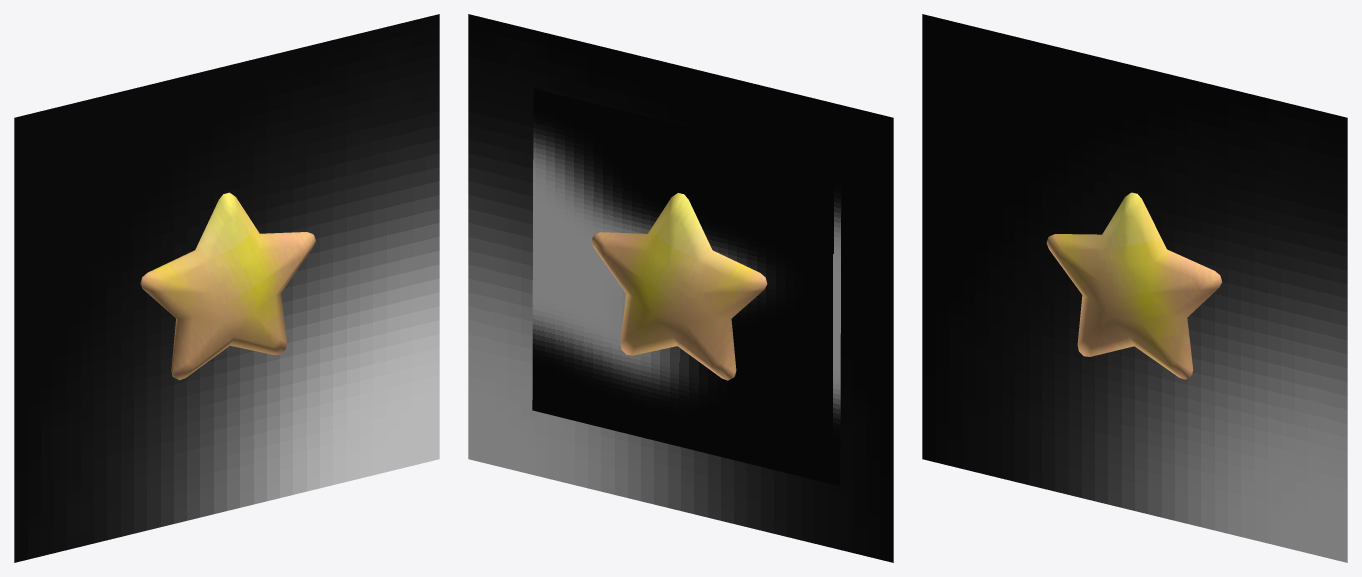
The model's file is Star.obj.
3 renders of one model, left to right at view 1: azimuth 30°, elevation 25°; view 2: azimuth 150°, elevation 25°; view 3: azimuth 330°, elevation 25°, orthographic.
Visible parts, largest first — view 1: polygon1, polygon0; view 2: polygon1, polygon2, polygon0; view 3: polygon1, polygon0.
Part boxes in pixels (<box>): polygon1: <box>14,14,439,562</box>; polygon0: <box>140,192,315,380</box>; polygon1: <box>468,14,893,562</box>; polygon2: <box>532,88,841,486</box>; polygon0: <box>591,193,767,380</box>; polygon1: <box>922,14,1347,562</box>; polygon0: <box>1046,192,1221,379</box>.
Bounding box in the file's own units: 20.7 × 20.7 × 2.03.
